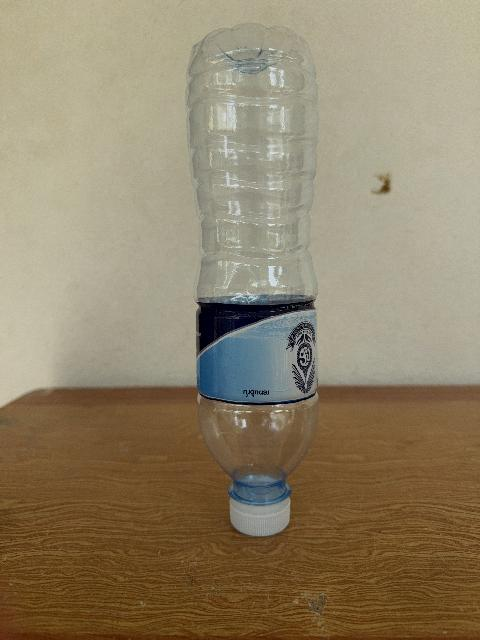bottle: (186, 24, 316, 535)
